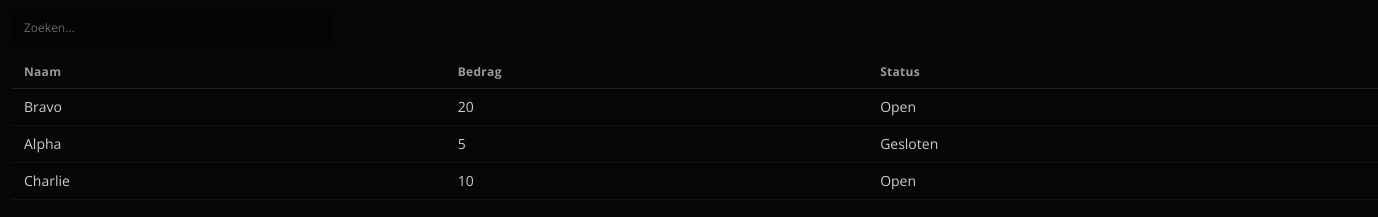
Test: DataTable › filters rows via the global search across every column (case-insensitive substring match)
Type "lph" into the field with test id "data-table-search" at coordinates (172, 28), box [12,12,332,44]
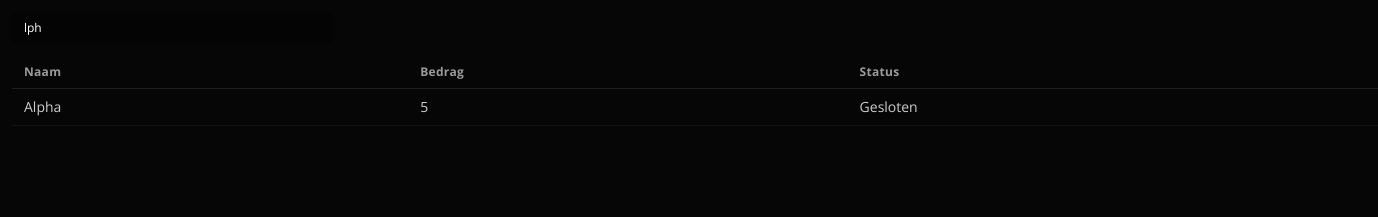
Expected: the row with test id "data-table-row-b" is shown, [12,88,1377,126]
Result: the row with test id "data-table-row-a" is gone
Result: the row with test id "data-table-row-c" is gone
